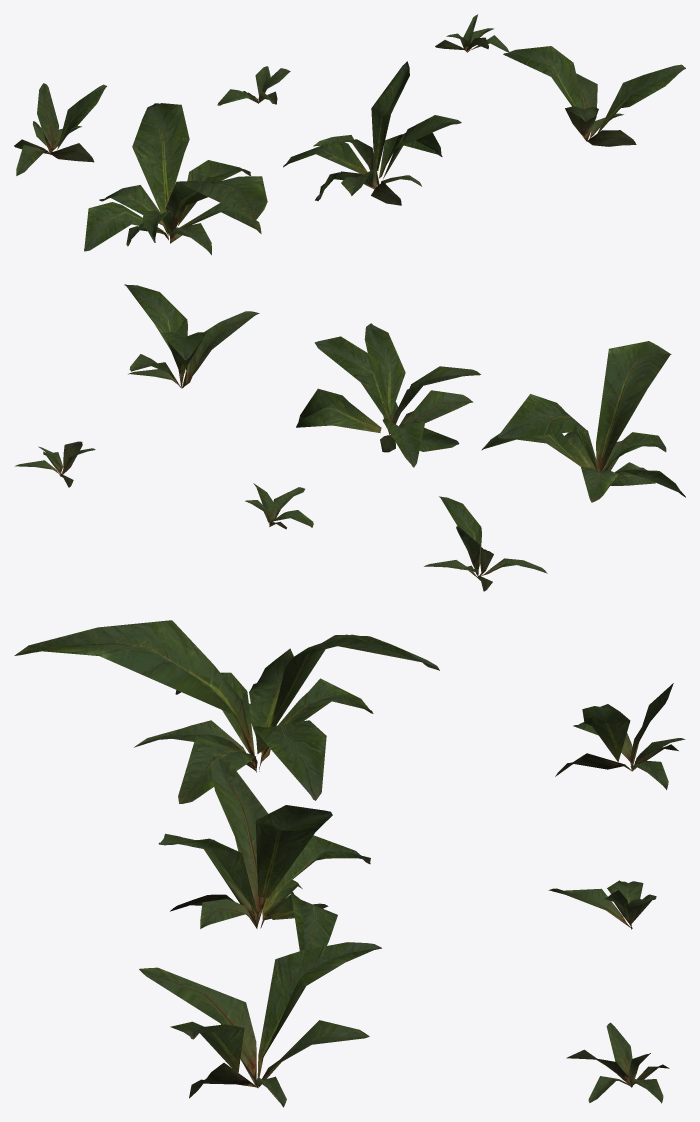
Rendered from anthurium_botany_01.glb.
The picture shows the model from 3 angles, top to bottom: view 1: azimuth 30°, elevation 25°; view 2: azimuth 150°, elevation 25°; view 3: azimuth 270°, elevation 25°; orthographic projection. The views are drawn at different scales.
Visible parts, largest first — view 1: anthurium_botany_01_a, anthurium_botany_01_b, anthurium_botany_01_c, anthurium_botany_04_d, anthurium_botany_05_e, anthurium_botany_06_f; view 2: anthurium_botany_01_a, anthurium_botany_01_b, anthurium_botany_01_c, anthurium_botany_04_d, anthurium_botany_05_e, anthurium_botany_06_f; view 3: anthurium_botany_01_a, anthurium_botany_01_b, anthurium_botany_01_c, anthurium_botany_04_d, anthurium_botany_06_f, anthurium_botany_05_e.
Part boxes in pixels (box(x1,y1,x2,y2)): anthurium_botany_01_a: box(84, 103, 267, 255); anthurium_botany_01_b: box(283, 61, 461, 205); anthurium_botany_01_c: box(503, 46, 685, 146); anthurium_botany_04_d: box(14, 83, 106, 175); anthurium_botany_05_e: box(217, 66, 290, 105); anthurium_botany_06_f: box(435, 14, 509, 52); anthurium_botany_01_a: box(481, 341, 685, 502); anthurium_botany_01_b: box(296, 323, 480, 467); anthurium_botany_01_c: box(124, 284, 259, 388); anthurium_botany_04_d: box(424, 496, 547, 591); anthurium_botany_05_e: box(245, 483, 313, 529); anthurium_botany_06_f: box(15, 441, 95, 487); anthurium_botany_01_a: box(14, 620, 439, 803); anthurium_botany_01_b: box(158, 754, 370, 950); anthurium_botany_01_c: box(139, 942, 381, 1107); anthurium_botany_04_d: box(555, 683, 685, 789); anthurium_botany_06_f: box(566, 1022, 669, 1103); anthurium_botany_05_e: box(548, 880, 656, 929).
Size of the model in its own units: 2.79 by 0.4996 by 1.8.
1 material, 1 textured.
